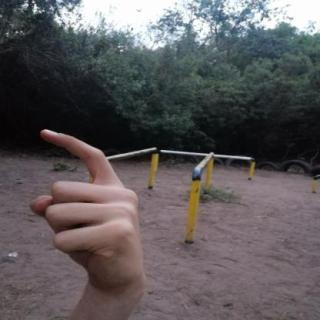RAA: (22, 122, 154, 292)
